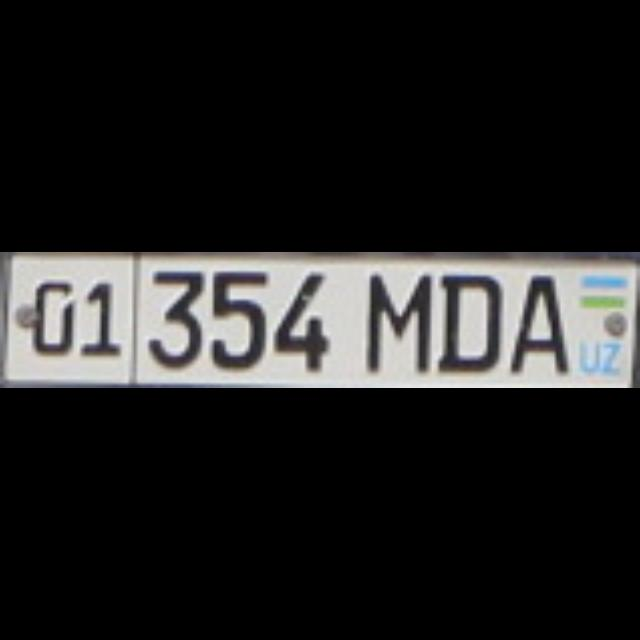0: (28, 276, 68, 348)
1: (77, 276, 117, 348)
3: (145, 264, 197, 364)
4: (270, 268, 326, 368)
5: (205, 264, 261, 360)
A: (503, 268, 563, 368)
D: (435, 268, 499, 368)
M: (362, 268, 426, 368)
